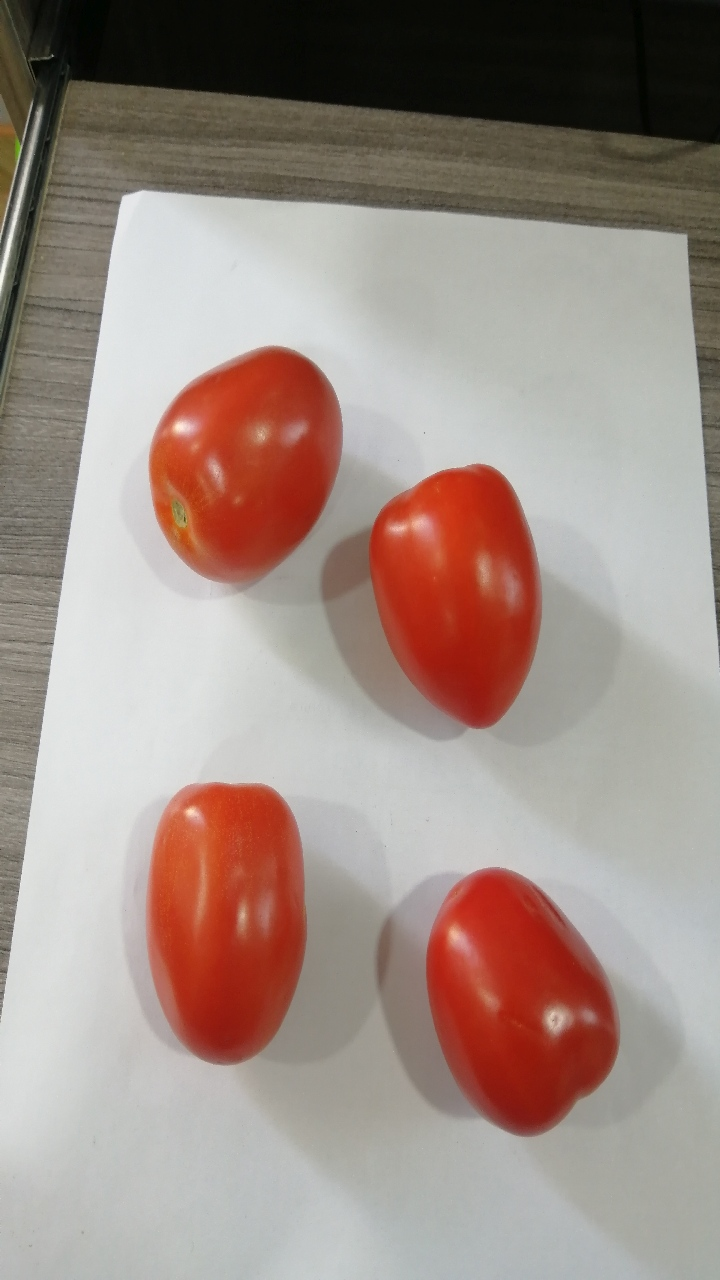tomateRojo: (397, 839, 644, 1154), (134, 323, 357, 620), (126, 757, 321, 1086), (361, 449, 557, 743)
